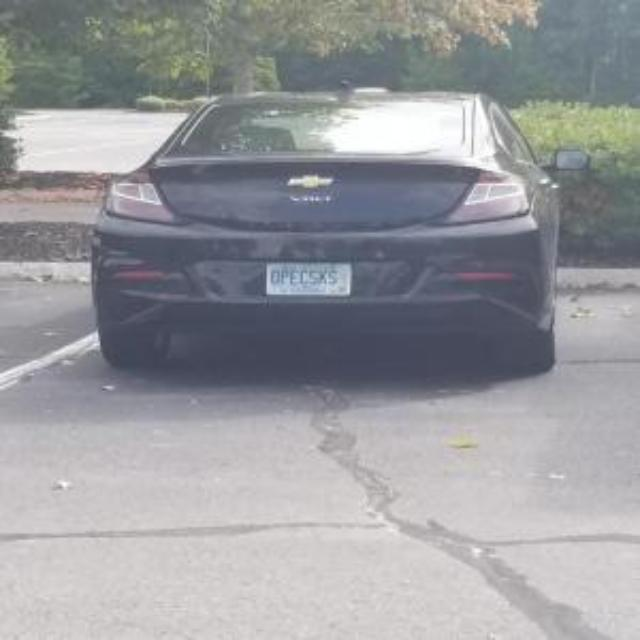License Plate: (265, 263, 351, 296)
